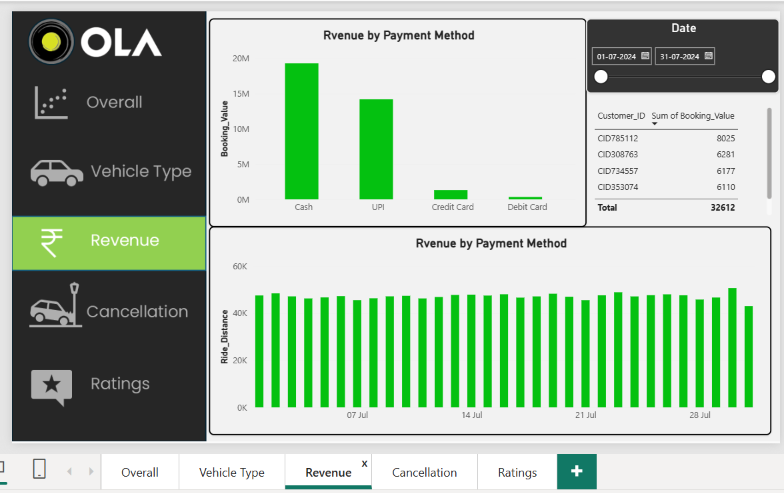

What the dashboard file says about the page in this screenshot:
{"tool":"powerbi","page":{"name":"Revenue","canvas":[1280,720],"ordinal":2},"visuals":[{"type":"actionButton","box":[0,224.3,326.1,92.3],"z":0},{"type":"actionButton","box":[0,450.1,326.1,92.3],"z":1000},{"type":"actionButton","box":[1.6,572.6,326.1,92.3],"z":2000},{"type":"actionButton","box":[0,115,326.1,92.3],"z":3000},{"type":"columnChart","title":"Rvenue by Payment Method","fields":{"Category":["July.Payment_Method"],"Y":["Sum(July.Booking_Value)"]},"box":[328.8,11.3,629.3,347.7],"z":4000},{"type":"columnChart","title":"Rvenue by Payment Method","fields":{"Category":["July.Date"],"Y":["Sum(July.Ride_Distance)"]},"box":[328.8,359.1,937.3,347.7],"z":5000},{"type":"slicer","title":"Date","fields":{"Values":["July.Date"]},"box":[956.2,11.3,322.9,125.7],"z":6000},{"type":"tableEx","title":"Top 5 Customers","fields":{"Values":["July.Customer_ID","Sum(July.Booking_Value)"]},"box":[970,160,296.7,180],"z":7000},{"type":"actionButton","box":[0,0,100,40],"z":8000}]}

Visuals, with their boxes in screenshot pixels (x1, y1, x2, y2):
actionButton: {"x1": 8, "y1": 144, "x2": 205, "y2": 199}
actionButton: {"x1": 8, "y1": 280, "x2": 205, "y2": 336}
actionButton: {"x1": 9, "y1": 354, "x2": 206, "y2": 410}
actionButton: {"x1": 8, "y1": 78, "x2": 205, "y2": 133}
"Rvenue by Payment Method" columnChart: {"x1": 207, "y1": 15, "x2": 587, "y2": 225}
"Rvenue by Payment Method" columnChart: {"x1": 207, "y1": 225, "x2": 773, "y2": 435}
"Date" slicer: {"x1": 586, "y1": 15, "x2": 781, "y2": 91}
"Top 5 Customers" tableEx: {"x1": 594, "y1": 105, "x2": 773, "y2": 214}
actionButton: {"x1": 8, "y1": 8, "x2": 69, "y2": 32}
